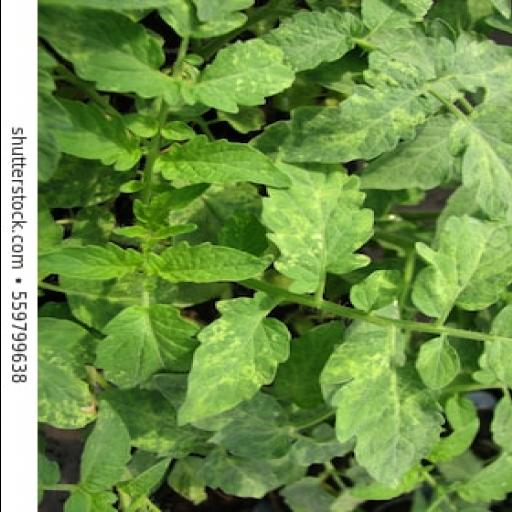Healthy: (148, 242, 274, 289), (38, 244, 144, 286), (411, 336, 459, 390)
Mosaic Virus: (322, 319, 444, 487), (172, 292, 291, 430), (258, 163, 374, 292), (44, 3, 181, 109), (348, 112, 478, 199), (280, 87, 420, 165), (411, 213, 512, 319), (90, 299, 192, 397), (172, 38, 302, 114), (152, 138, 292, 198), (73, 402, 139, 490)
